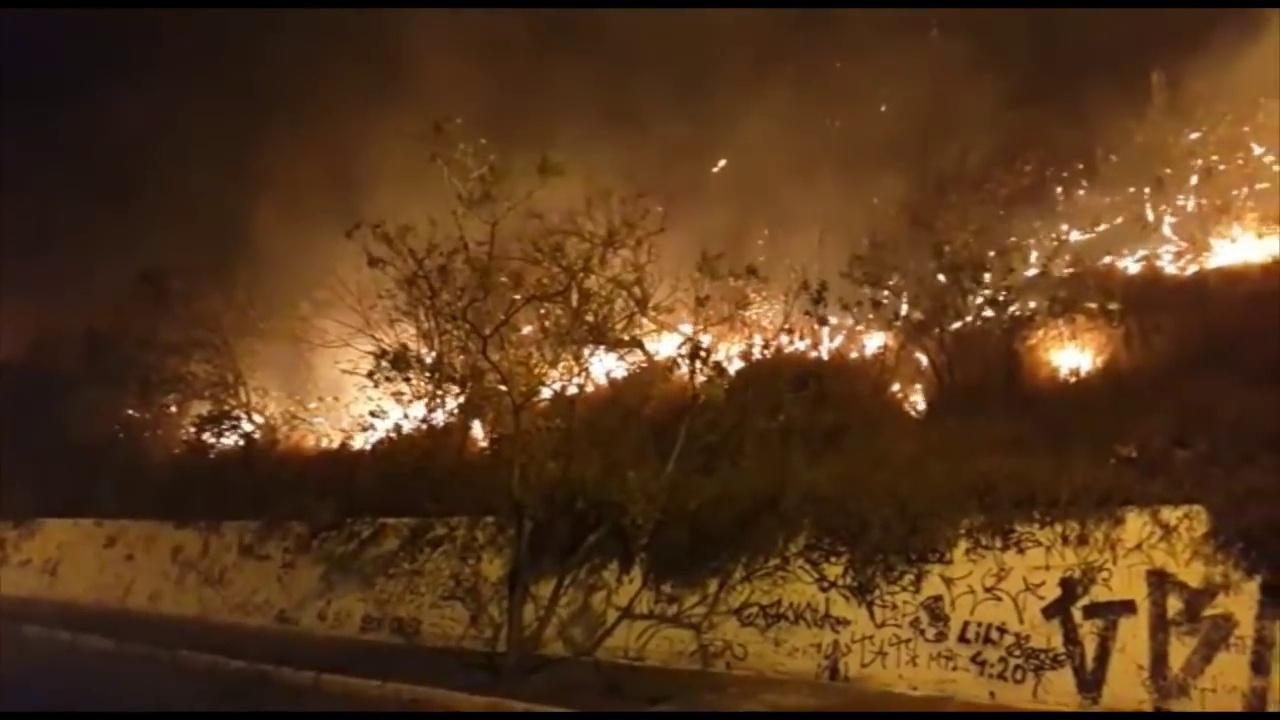fire: (141, 226, 1273, 445)
